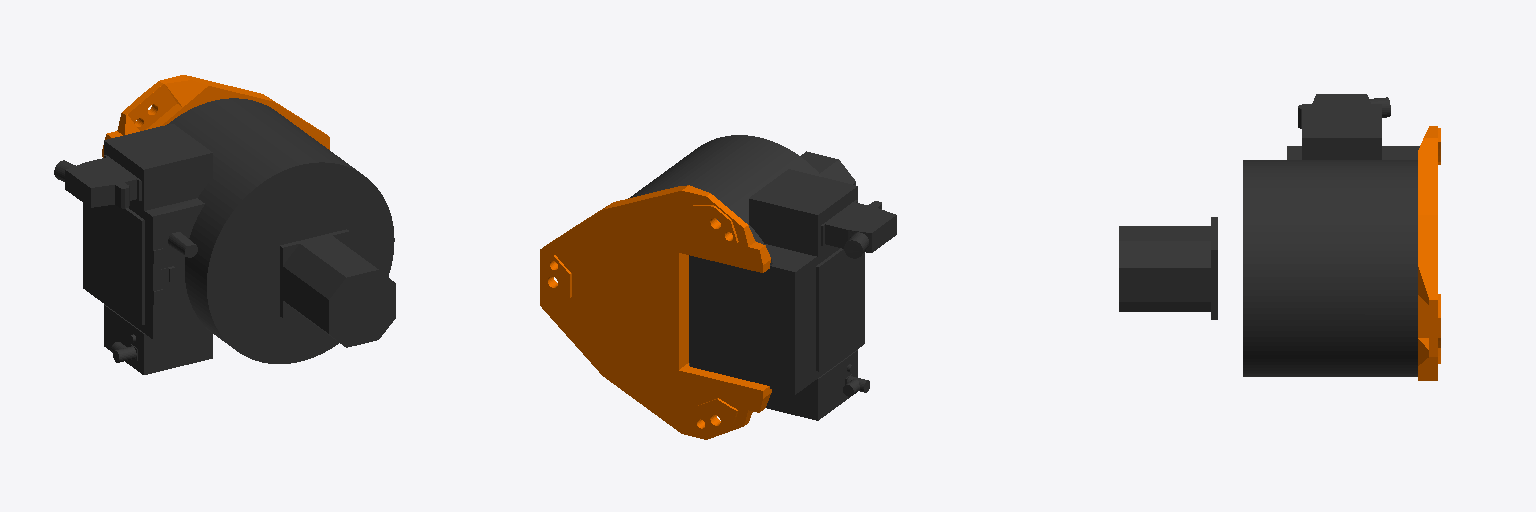
The model's file is Eslabon0.obj.
3 renders of one model, left to right at view 1: azimuth 30°, elevation 25°; view 2: azimuth 150°, elevation 25°; view 3: azimuth 270°, elevation 25°, orthographic.
Visible parts, largest first — view 1: base; view 2: base; view 3: base.
Boxes of the visible parts, box(x1,y1,x2,y2) form: base: box(54, 75, 395, 374); base: box(540, 135, 896, 439); base: box(1119, 94, 1440, 380).
Size of the model in its own units: 0.6843 by 0.5361 by 0.6445.